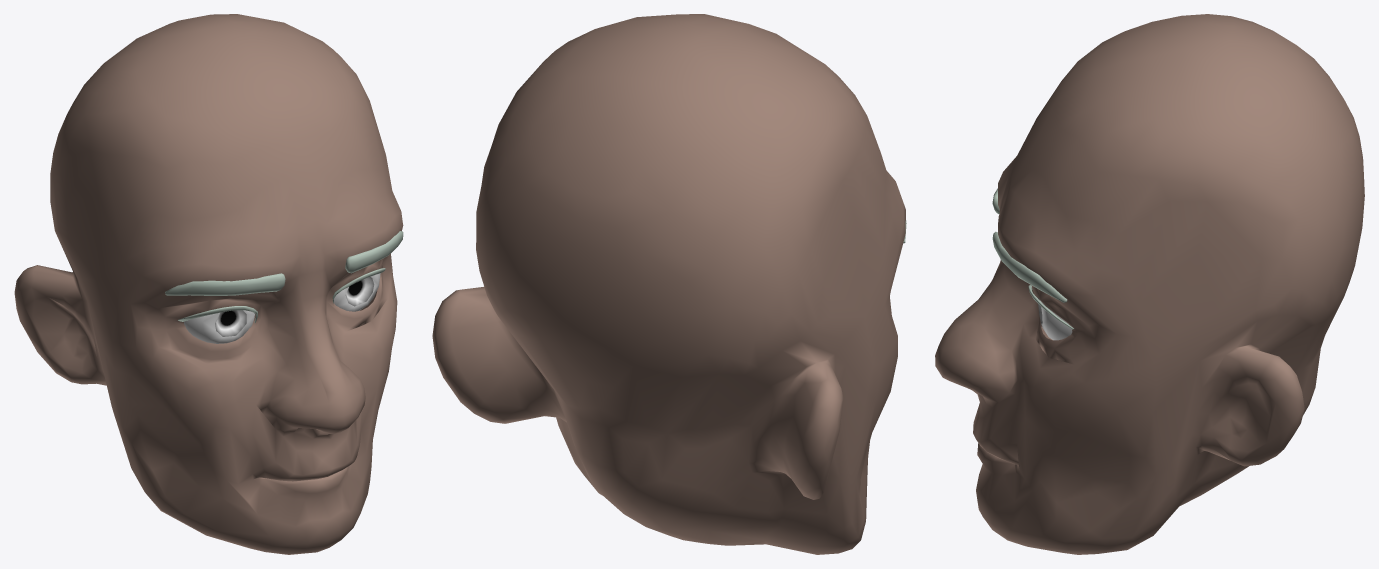
The picture shows the model from 3 angles, left to right: view 1: azimuth 30°, elevation 25°; view 2: azimuth 150°, elevation 25°; view 3: azimuth 270°, elevation 25°; orthographic projection. The views are drawn at different scales.
Visible parts, largest first — view 1: skin.001, eyes.001, brows.001, lashes.001; view 2: skin.001; view 3: skin.001, brows.001, eyes.001.
Part boxes in pixels (<box>): skin.001: <box>14,14,403,554</box>; eyes.001: <box>184,273,380,343</box>; brows.001: <box>165,231,403,295</box>; lashes.001: <box>178,268,385,322</box>; skin.001: <box>432,14,905,554</box>; skin.001: <box>935,14,1364,554</box>; brows.001: <box>992,188,1067,302</box>; eyes.001: <box>1038,298,1072,340</box>.
Bounding box in the file's own units: 1.51 × 2 × 1.56.
Materials: 9 (1 with a texture image).
